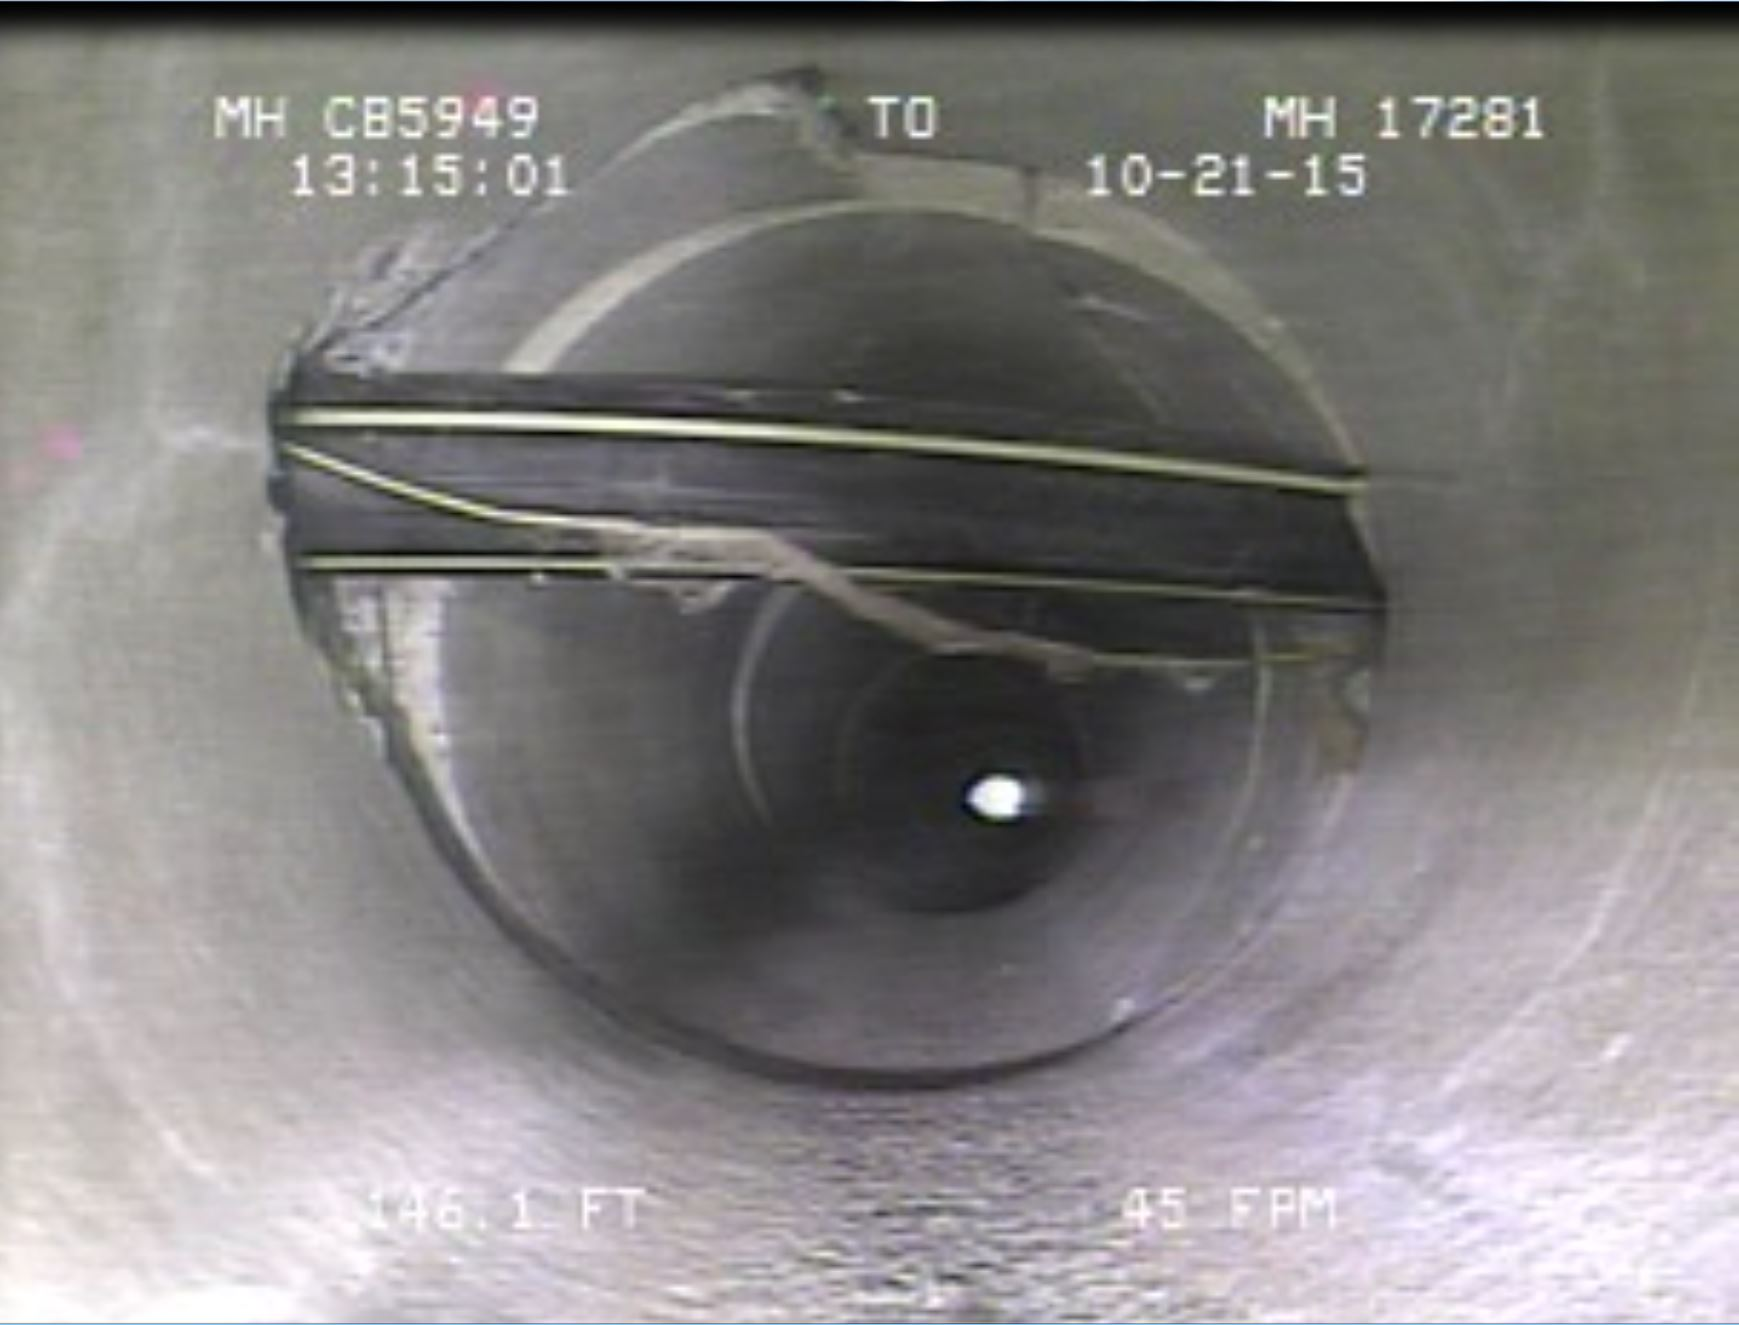cb: (216, 354, 1523, 668)
